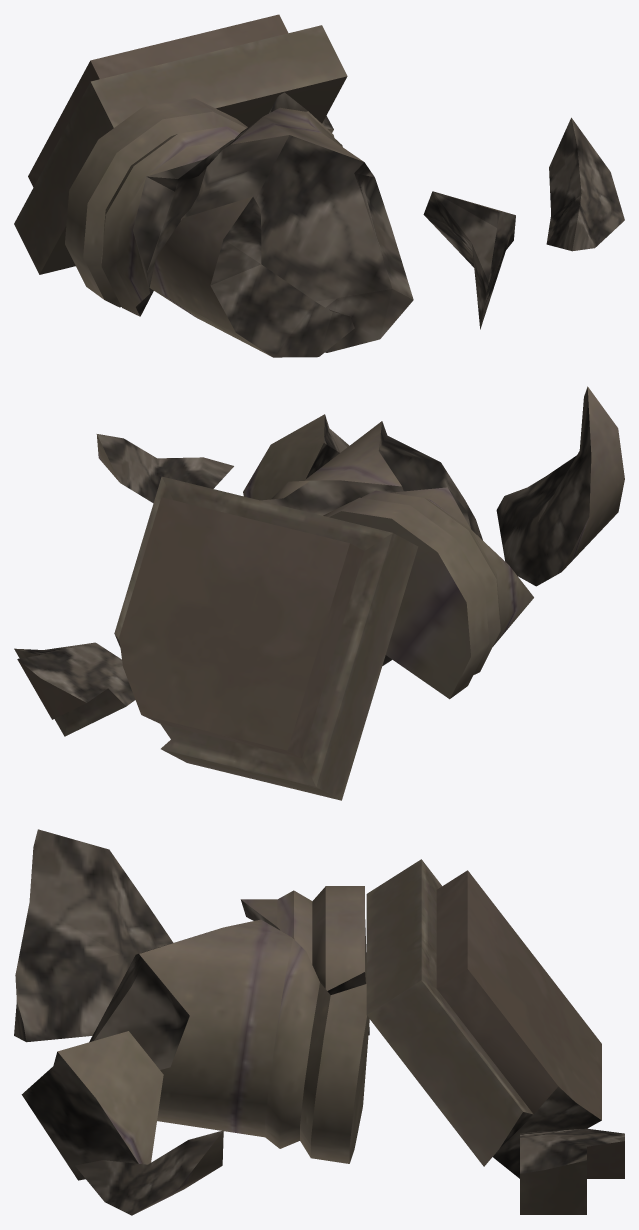
The model's file is blsd_boss_posui_2.FBX.
3 renders of one model, top to bottom at view 1: azimuth 30°, elevation 25°; view 2: azimuth 150°, elevation 25°; view 3: azimuth 270°, elevation 25°, orthographic. The views are drawn at different scales.
Visible parts, largest first — view 1: blsd_boss_posui_2; view 2: blsd_boss_posui_2; view 3: blsd_boss_posui_2.
Boxes of the visible parts, x1,y1,x2,y2 form: blsd_boss_posui_2: [14, 14, 624, 357]; blsd_boss_posui_2: [14, 386, 624, 800]; blsd_boss_posui_2: [14, 829, 624, 1215].
Size of the model in its own units: 513 by 535 by 260.
